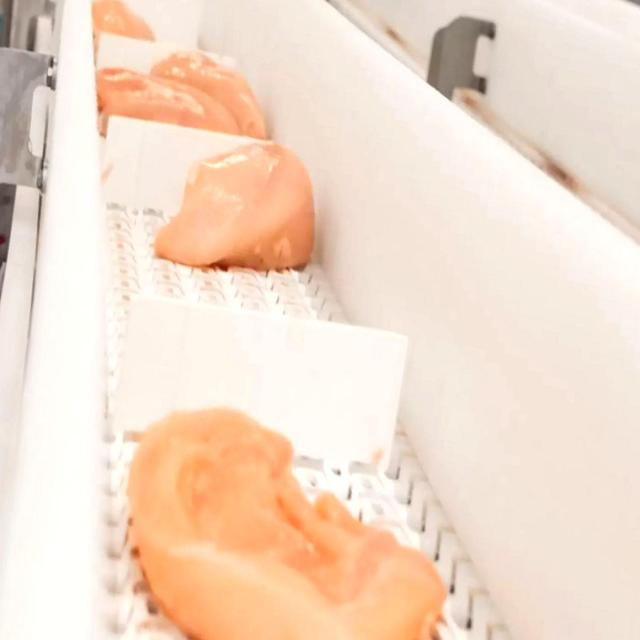food: (124, 404, 448, 638), (152, 139, 316, 272), (93, 30, 268, 142)
